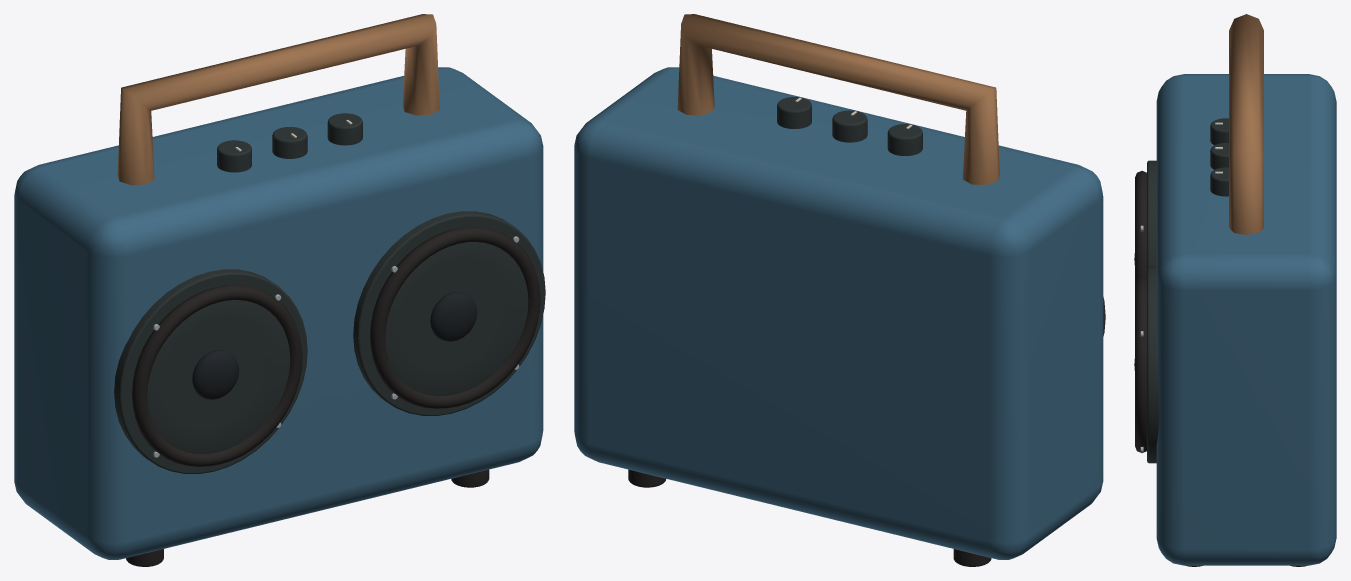
The model's file is premium-audio-speaker.glb.
3 renders of one model, left to right at view 1: azimuth 30°, elevation 25°; view 2: azimuth 150°, elevation 25°; view 3: azimuth 270°, elevation 25°, orthographic. The views are drawn at different scales.
Parts seen in each view (by area): view 1: Portable speaker case, Raised carry handle, Speaker dark mounting rebate, Speaker dark mounting rebate.001, Speaker dished cone, Speaker dished cone.001, Speaker flexible surround.001, Speaker flexible surround, Speaker central dome, Speaker central dome.001, Top rotary control.002, Top rotary control.001 (+1 smaller); view 2: Portable speaker case, Raised carry handle, Top rotary control.001, Top rotary control, Top rotary control.002; view 3: Portable speaker case, Raised carry handle, Speaker dark mounting rebate.001, Speaker flexible surround.001, Speaker flexible surround, Speaker dark mounting rebate, Top rotary control.002, Top rotary control, Top rotary control.001.
Part boxes in pixels (left/top/right/bottom): Portable speaker case: left=14, top=67, right=543, bottom=559; Raised carry handle: left=117, top=14, right=439, bottom=185; Speaker dark mounting rebate: left=114, top=269, right=307, bottom=473; Speaker dark mounting rebate.001: left=353, top=211, right=545, bottom=415; Speaker dished cone: left=147, top=300, right=290, bottom=453; Speaker dished cone.001: left=385, top=242, right=528, bottom=395; Speaker flexible surround.001: left=370, top=227, right=540, bottom=408; Speaker flexible surround: left=132, top=285, right=302, bottom=466; Speaker central dome: left=192, top=350, right=239, bottom=399; Speaker central dome.001: left=430, top=292, right=477, bottom=341; Top rotary control.002: left=327, top=113, right=362, bottom=145; Top rotary control.001: left=272, top=127, right=307, bottom=158; Portable speaker case: left=574, top=67, right=1103, bottom=559; Raised carry handle: left=677, top=14, right=999, bottom=185; Top rotary control.001: left=832, top=110, right=867, bottom=142; Top rotary control: left=887, top=124, right=922, bottom=155; Top rotary control.002: left=777, top=97, right=811, bottom=128; Portable speaker case: left=1156, top=74, right=1336, bottom=565; Raised carry handle: left=1229, top=14, right=1263, bottom=234; Speaker dark mounting rebate.001: left=1147, top=266, right=1159, bottom=463; Speaker flexible surround.001: left=1135, top=276, right=1146, bottom=452; Speaker flexible surround: left=1135, top=171, right=1146, bottom=282; Speaker dark mounting rebate: left=1147, top=160, right=1156, bottom=267; Top rotary control.002: left=1210, top=167, right=1228, bottom=196; Top rotary control: left=1210, top=118, right=1228, bottom=144; Top rotary control.001: left=1210, top=142, right=1228, bottom=169.
Bounding box in the file's own units: 0.327 × 0.3085 × 0.1393.
Materials: 7 (7 with a texture image).
